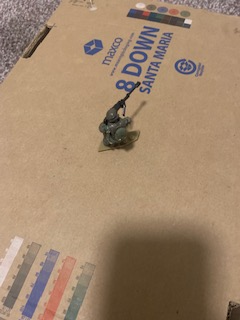soldier: (95, 79, 150, 152)
